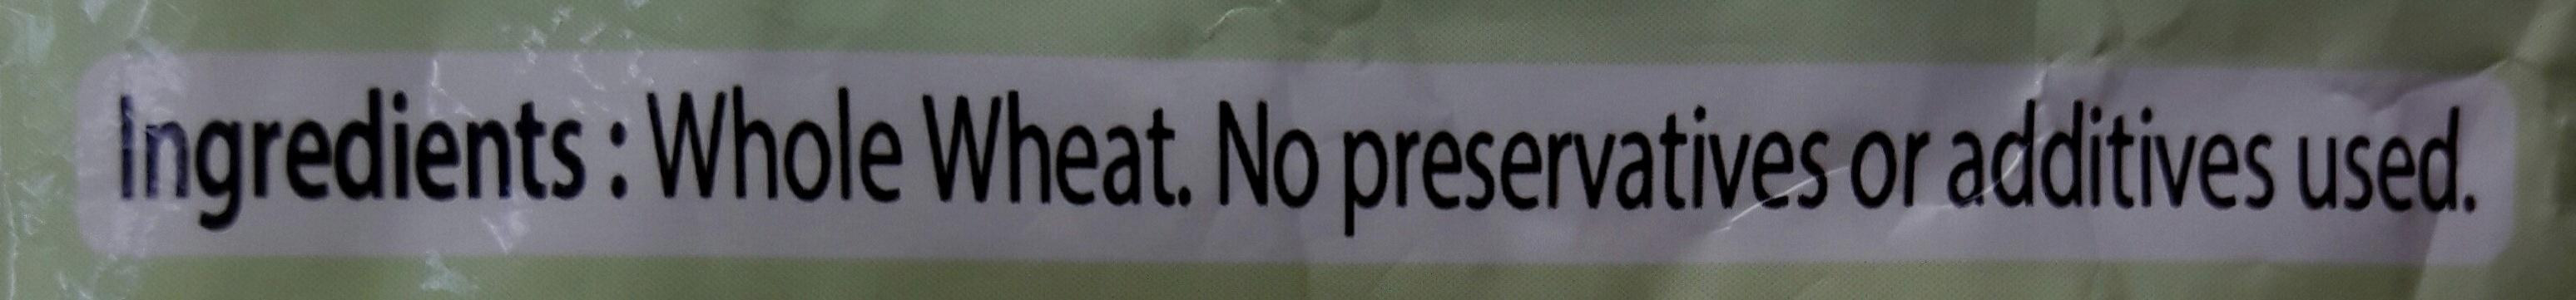ingredients: (84, 39, 2497, 272)
